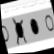correct: (28, 15, 41, 37)
not correct: (11, 13, 30, 48)
